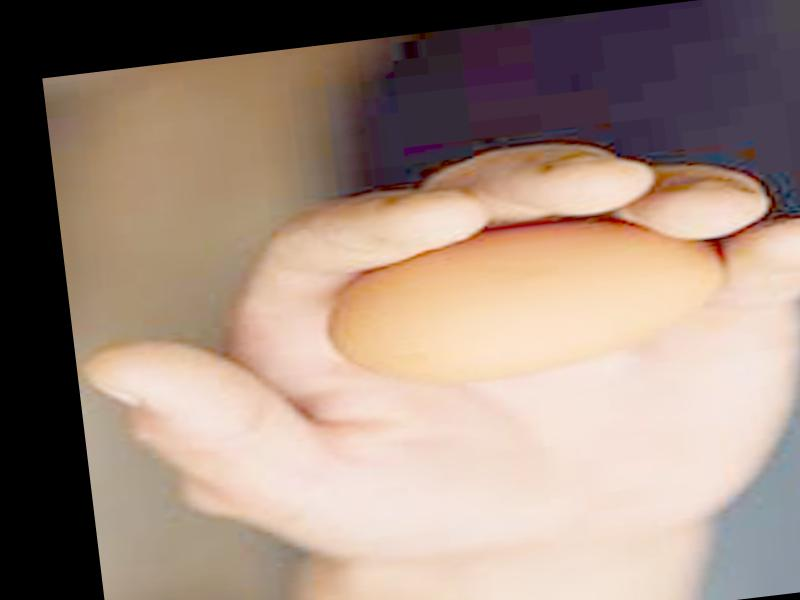Eggs: (323, 208, 735, 396)
